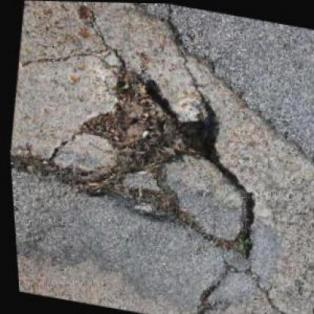Hueco: (24, 51, 277, 260)
